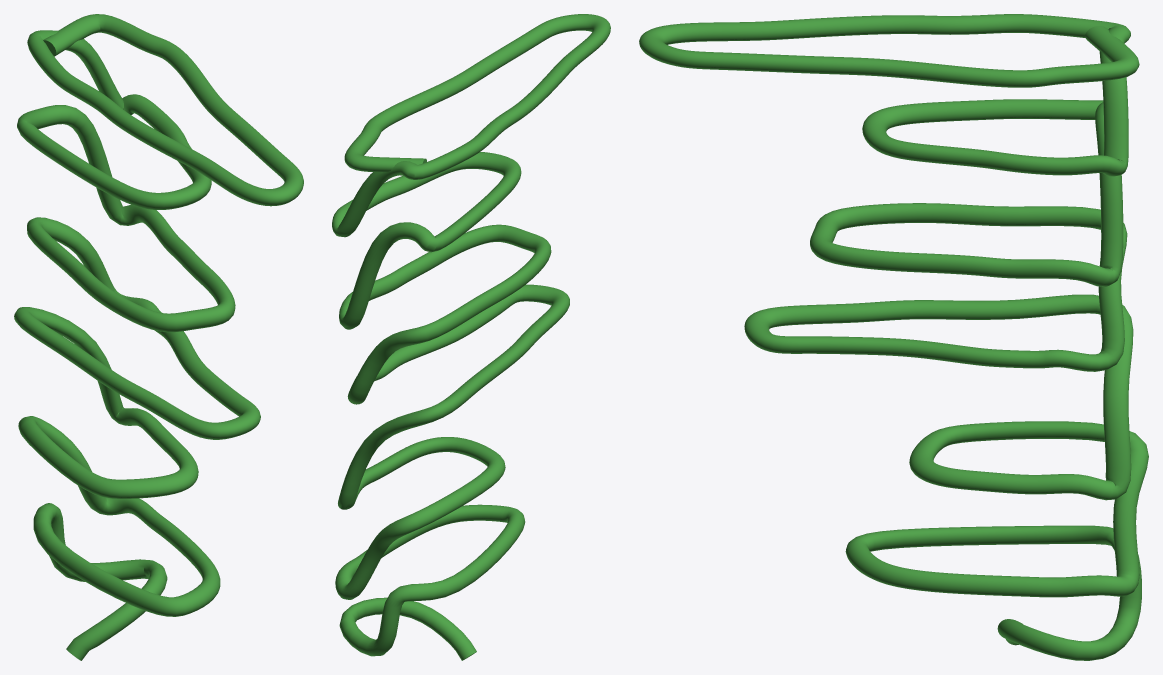
File: vines.fbx
The picture shows the model from 3 angles, left to right: view 1: azimuth 30°, elevation 25°; view 2: azimuth 150°, elevation 25°; view 3: azimuth 270°, elevation 25°; orthographic projection. The views are drawn at different scales.
Parts seen in each view (by area): view 1: pCylinder1; view 2: pCylinder1; view 3: pCylinder1.
Boxes of the visible parts, <box> form: pCylinder1: <box>14,14,303,660</box>; pCylinder1: <box>332,14,610,660</box>; pCylinder1: <box>639,14,1148,660</box>.
Bounding box in the file's own units: 2.97 × 12.56 × 9.31.
